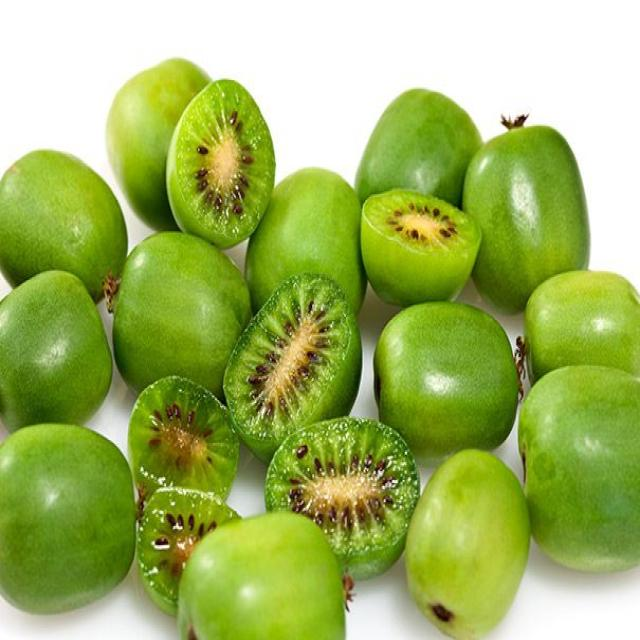kiwi: (265, 416, 420, 580), (222, 281, 361, 449), (167, 80, 294, 247), (356, 162, 484, 308)
